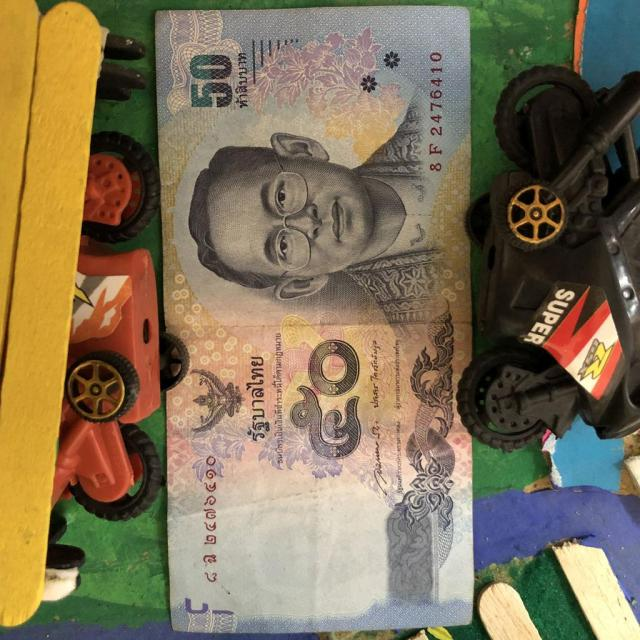THAI50: (156, 7, 473, 632)
